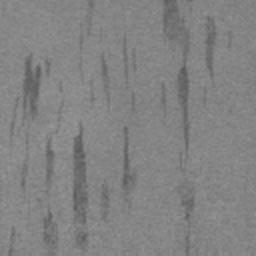Red iron sheet: (9, 52, 138, 256), (160, 0, 234, 170), (88, 31, 137, 113), (174, 184, 197, 256), (8, 225, 15, 256)
